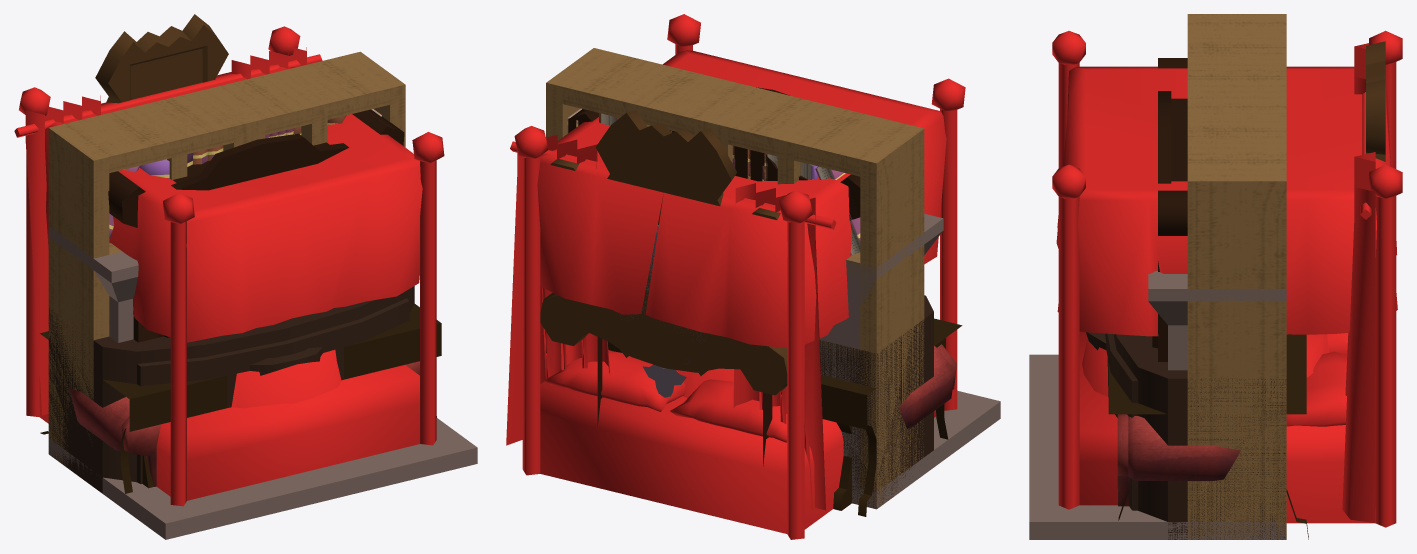
File: doodads.glb
The picture shows the model from 3 angles, left to right: view 1: azimuth 30°, elevation 25°; view 2: azimuth 150°, elevation 25°; view 3: azimuth 270°, elevation 25°; orthographic projection. The views are drawn at different scales.
Visible parts, largest first — view 1: bed, bookcaseWide, dresser, fireplace, curtain, wardrobe, paintingSml, bookcaseNarr, tableLongMid, tableLongEnd, bookcaseShor, tableRound (+1 smaller); view 2: bed, bookcaseWide, paintingSml, curtain, dresser, fireplace, paintingBig, bookcaseShor, tableLongEnd, tableLongMid, couch, wardrobe (+4 smaller); view 3: bed, bookcaseWide, fireplace, dresser, curtain, couch, wardrobe, tableLongEnd, bookcaseShor, paintingSml, tableRound, bookcaseNarr (+1 smaller).
Boxes of the visible parts, x1,y1,x2,y2 form: bed: (19, 26, 444, 506); bookcaseWide: (48, 51, 405, 465); dresser: (48, 286, 414, 493); fireplace: (48, 226, 477, 539); curtain: (14, 47, 322, 415); wardrobe: (108, 109, 404, 342); paintingSml: (95, 14, 228, 103); bookcaseNarr: (150, 70, 327, 179); tableLongMid: (40, 304, 441, 493); tableLongEnd: (129, 303, 441, 488); bookcaseShor: (48, 308, 93, 466); tableRound: (231, 349, 341, 476); bed: (514, 14, 965, 539); bookcaseWide: (546, 48, 924, 508); paintingSml: (595, 110, 736, 375); curtain: (506, 134, 836, 510); dresser: (819, 295, 933, 508); fireplace: (819, 213, 1000, 509); paintingBig: (540, 159, 787, 395); bookcaseShor: (819, 319, 924, 508); tableLongEnd: (607, 338, 945, 510); tableLongMid: (850, 318, 962, 516); couch: (899, 344, 956, 428); wardrobe: (568, 87, 860, 220); bed: (1052, 30, 1402, 527); bookcaseWide: (1187, 14, 1286, 539); fireplace: (1029, 270, 1286, 539); dresser: (1086, 332, 1286, 539); curtain: (1342, 43, 1375, 523); couch: (1117, 414, 1240, 506); wardrobe: (1152, 58, 1187, 361); tableLongEnd: (1108, 334, 1308, 539); bookcaseShor: (1187, 378, 1286, 539); paintingSml: (1366, 41, 1385, 161); tableRound: (1082, 334, 1329, 396); bookcaseNarr: (1187, 55, 1286, 138).
Bounding box in the file's own units: 2.05 × 2.21 × 1.89.
Materials: 22 (3 with a texture image).
